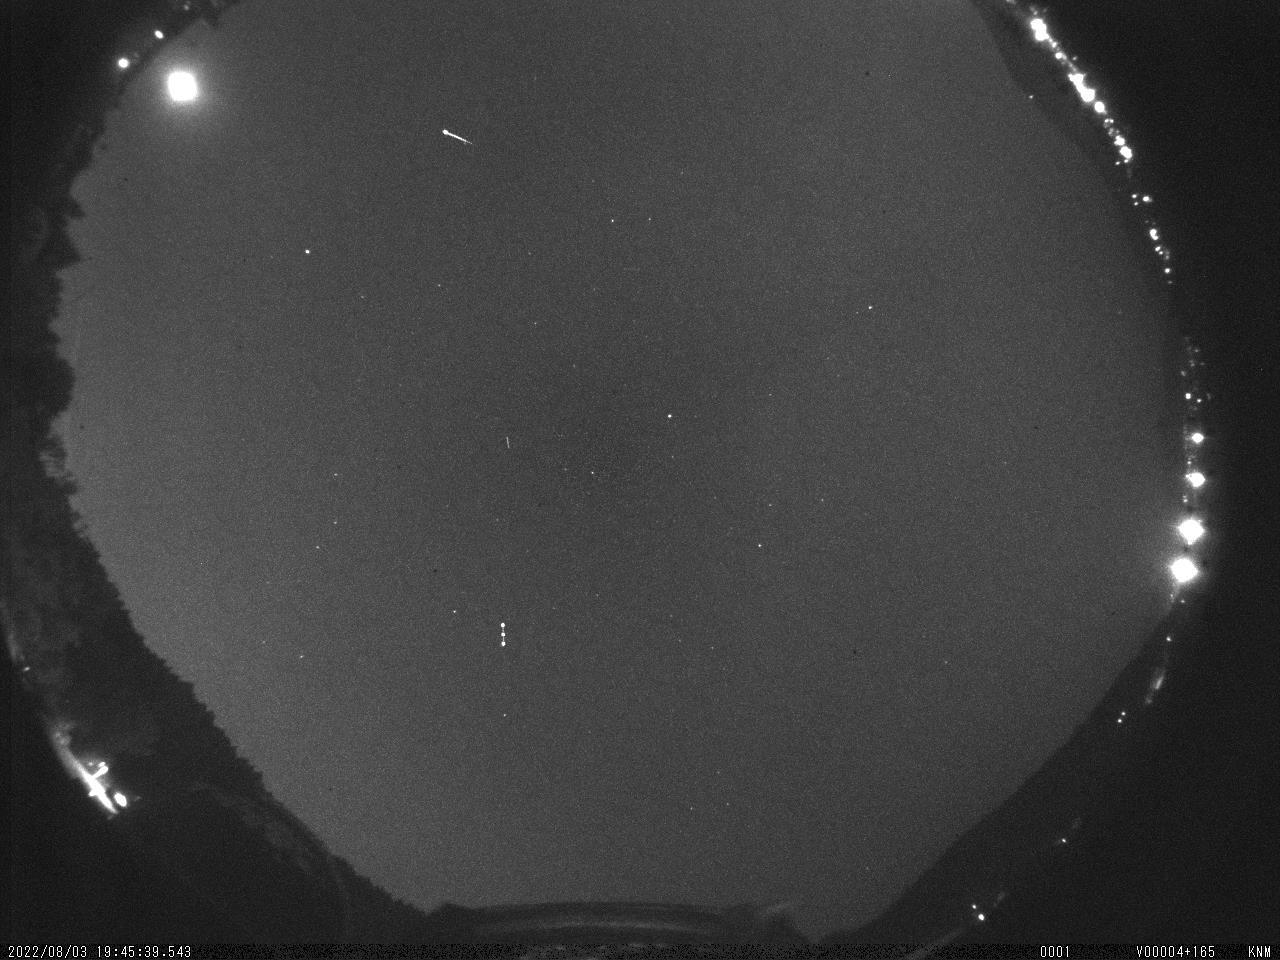Meteor: (440, 126, 473, 145)
